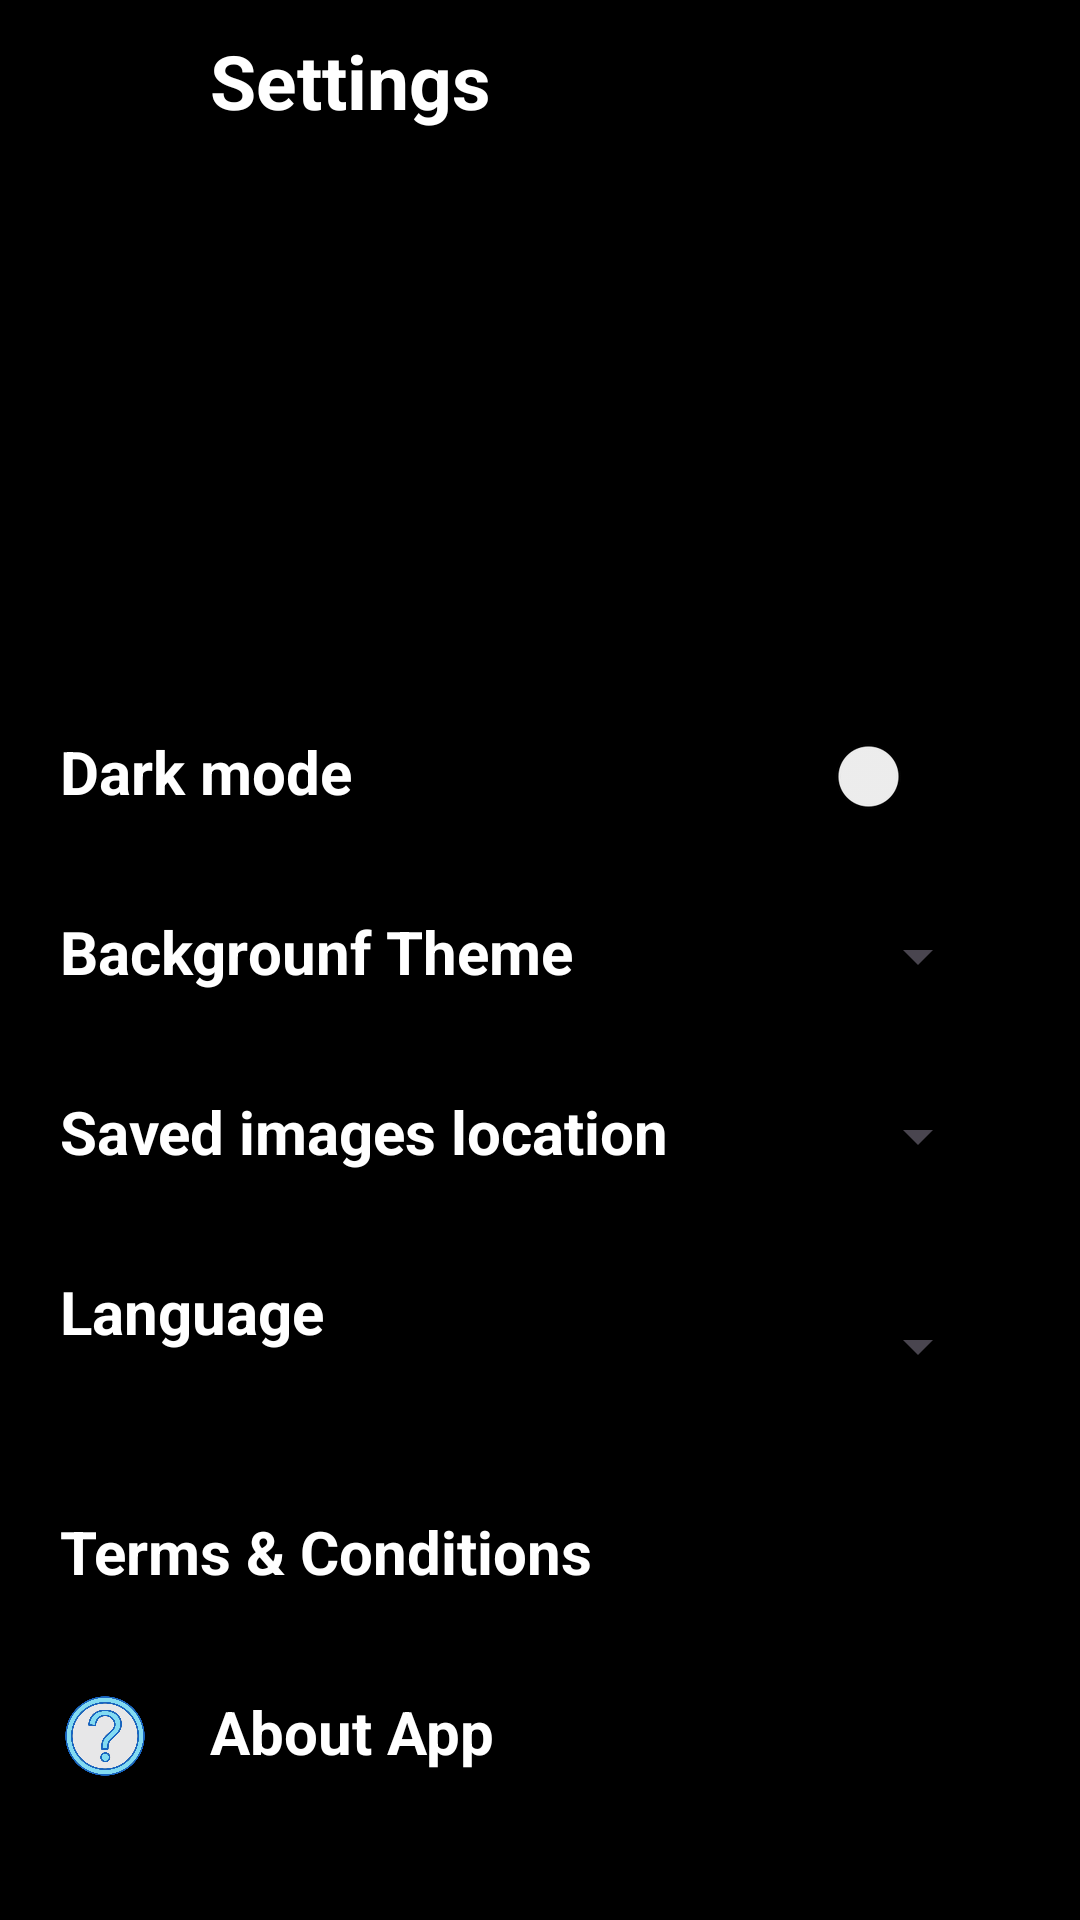

Icons on this 1080 × 1920 Android screen, each with the point to tap as point (x, y):
help: point (105, 1736)
